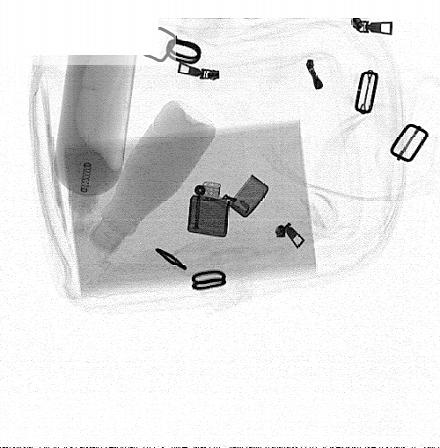Lighter: (187, 173, 269, 238)
